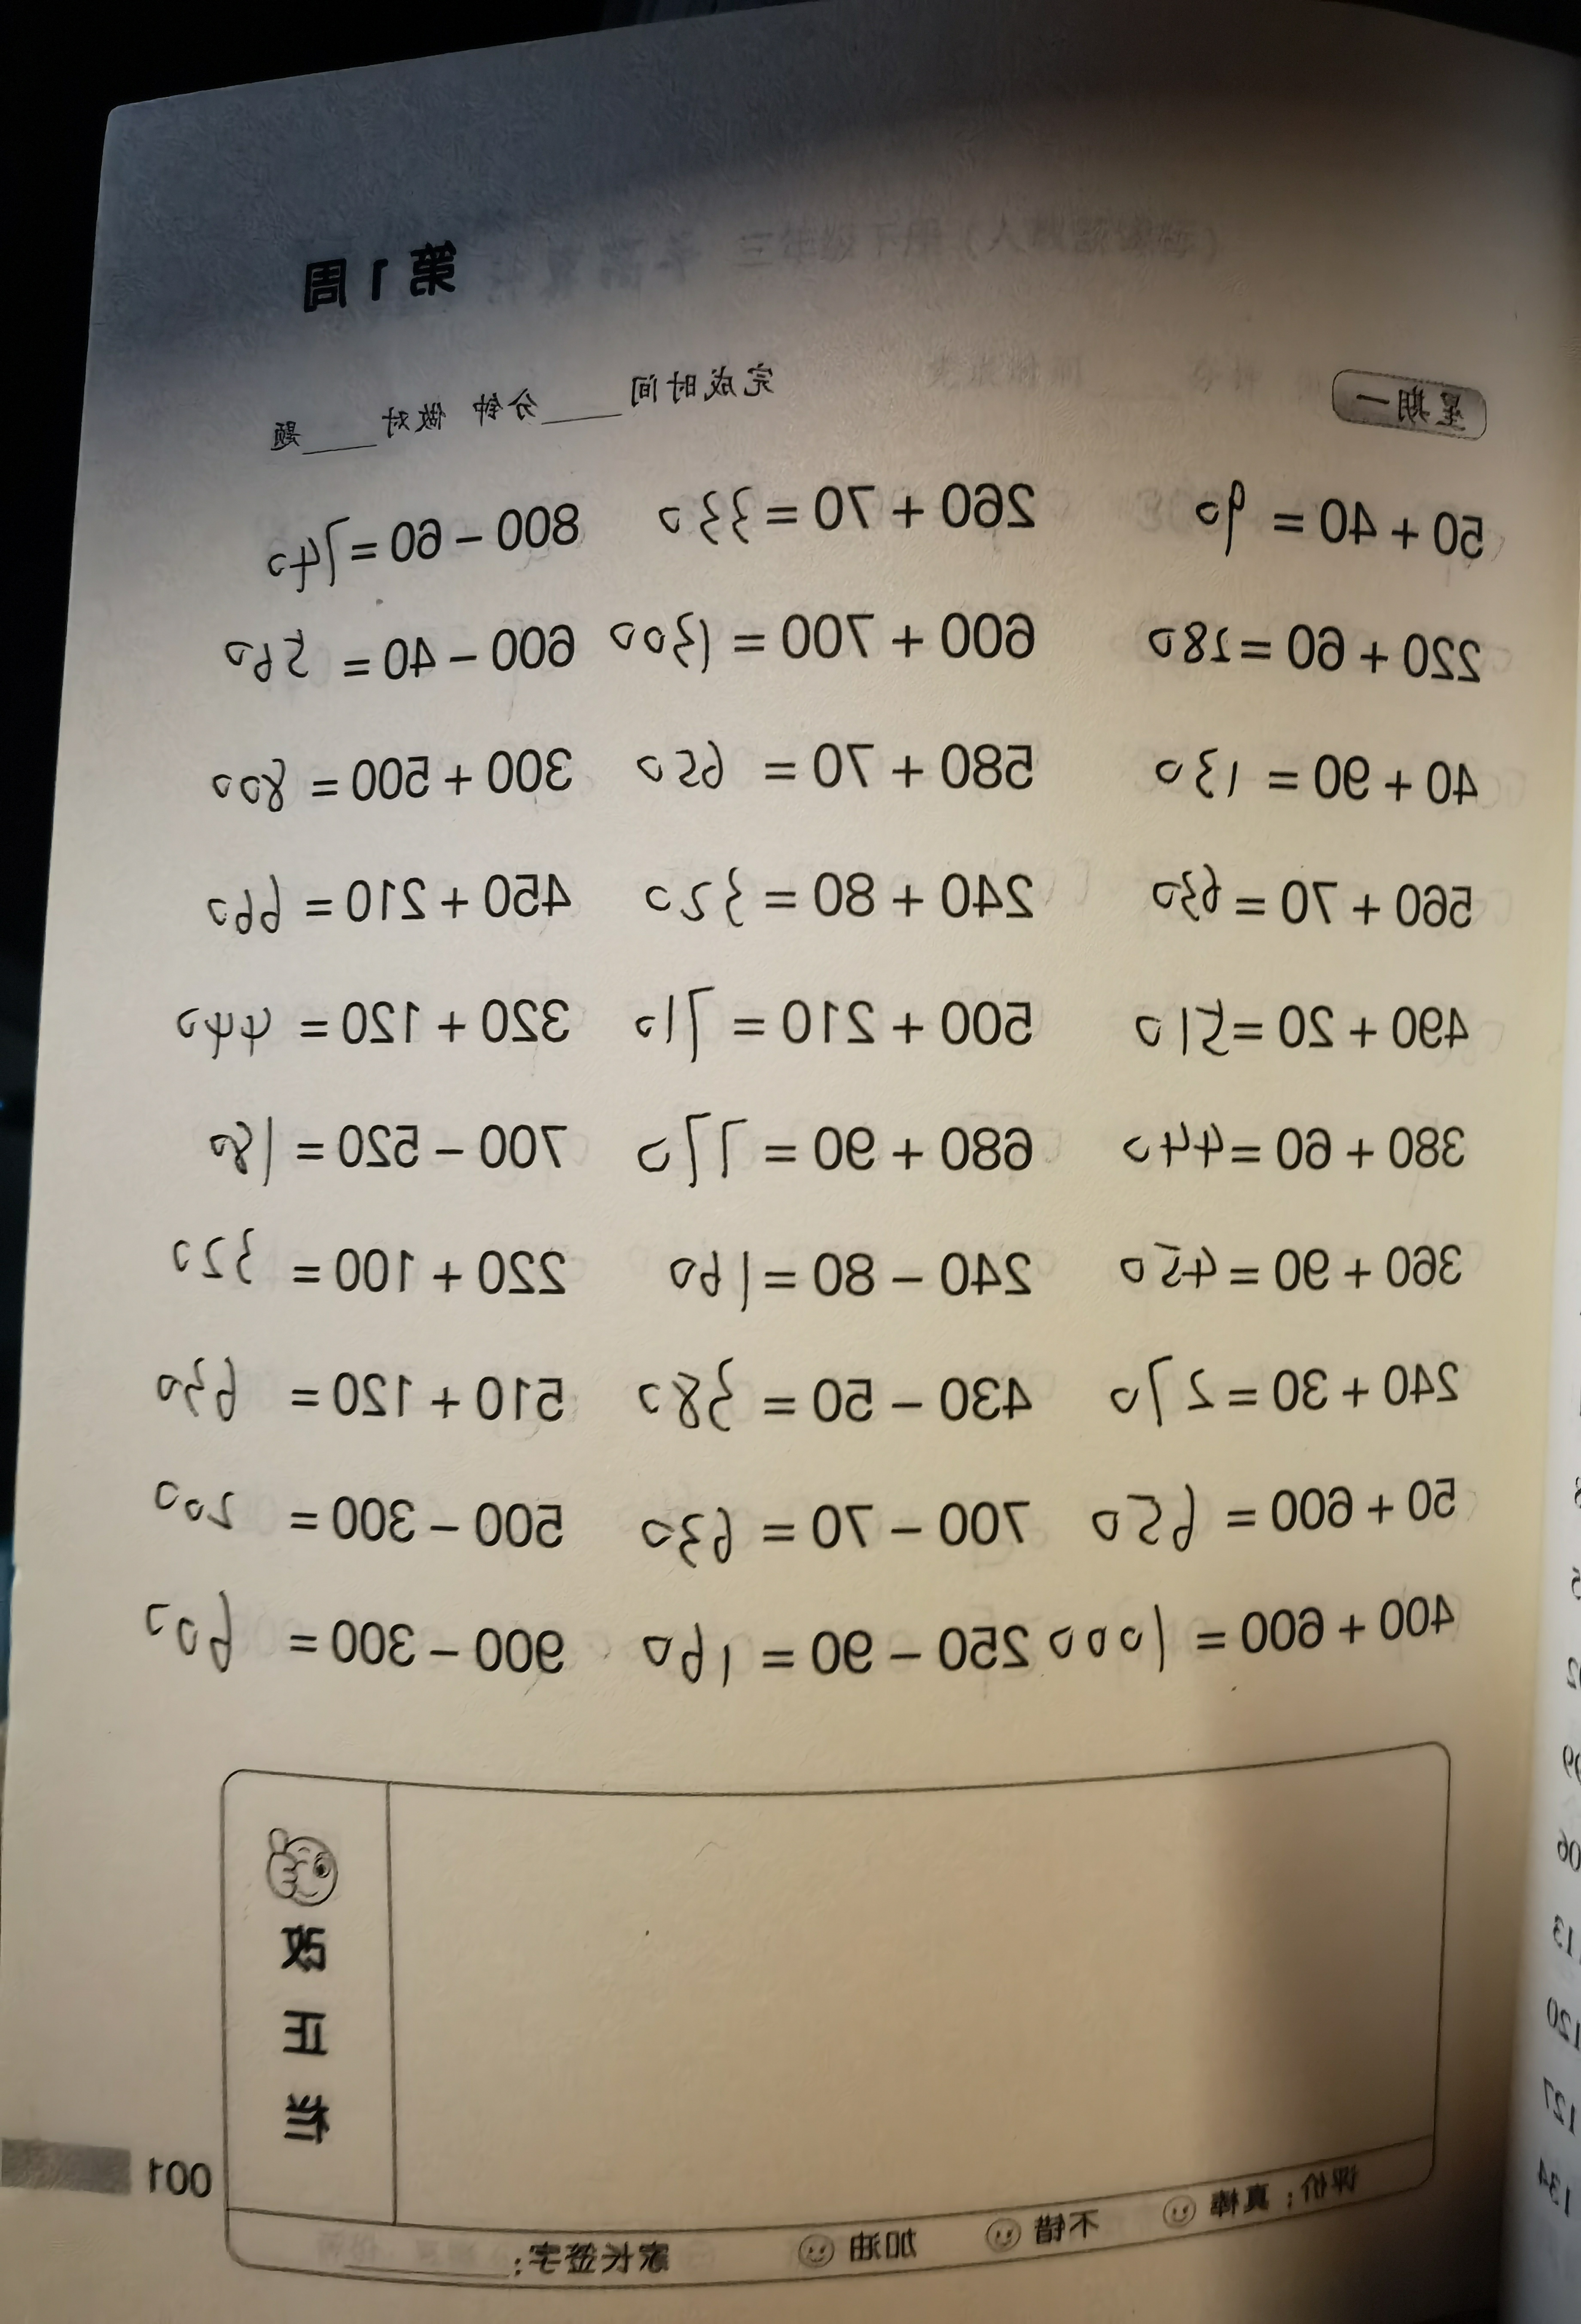equation: (1038, 1574, 1480, 1696), (1060, 1442, 1484, 1565), (639, 443, 1057, 563), (1078, 1089, 1489, 1205), (1069, 1322, 1484, 1436), (603, 591, 1071, 690), (611, 1472, 1036, 1579), (630, 1601, 1029, 1710), (1085, 1219, 1486, 1325), (609, 1357, 1053, 1451), (120, 1592, 577, 1682), (118, 1472, 573, 1560), (609, 1108, 1043, 1200), (598, 729, 1069, 810), (208, 1098, 563, 1205), (619, 849, 1041, 939), (600, 978, 1055, 1061), (1135, 487, 1514, 584), (192, 854, 572, 951), (1092, 859, 1517, 946), (1108, 976, 1489, 1071), (157, 981, 570, 1066), (1131, 734, 1507, 824), (129, 1357, 582, 1429), (203, 732, 573, 821), (1103, 618, 1517, 695), (215, 612, 572, 699), (148, 1232, 573, 1301), (228, 491, 588, 563), (649, 1248, 1034, 1311)
